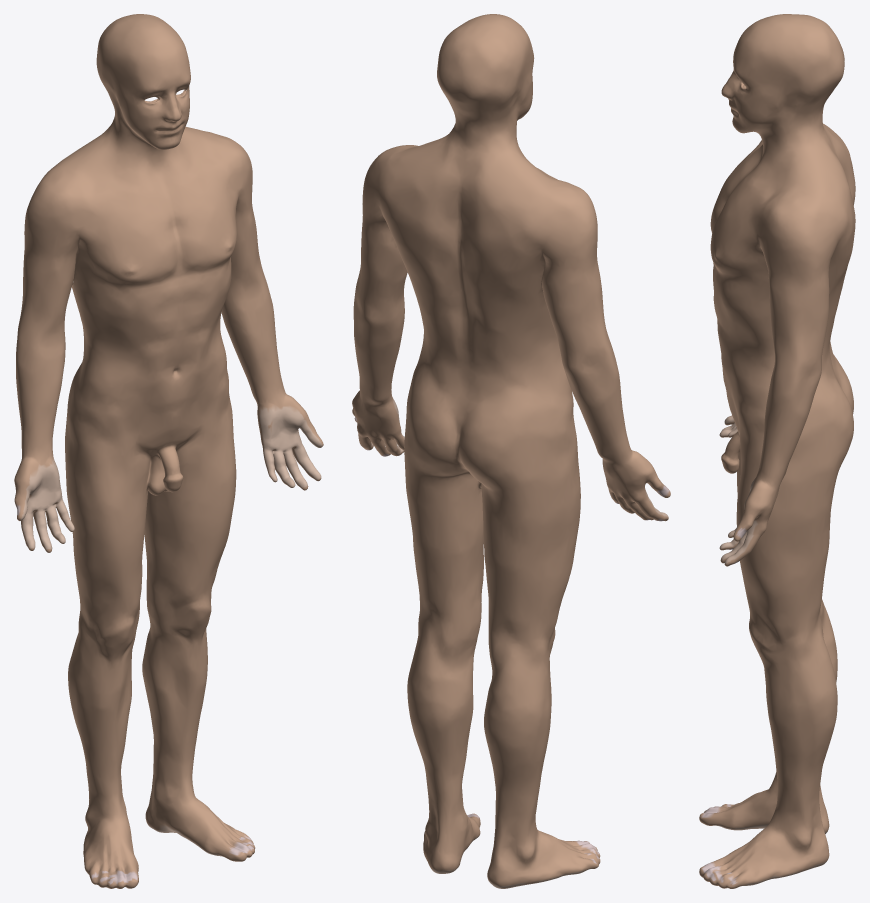
Rendered from skin.glb.
The picture shows the model from 3 angles, left to right: view 1: azimuth 30°, elevation 25°; view 2: azimuth 150°, elevation 25°; view 3: azimuth 270°, elevation 25°; orthographic projection. The views are drawn at different scales.
Parts seen in each view (by area): view 1: skin; view 2: skin; view 3: skin.
Part boxes in pixels (x1,y1,x2,y2): skin: (14, 14, 323, 888); skin: (352, 14, 670, 888); skin: (699, 14, 855, 888).
Size of the model in its own units: 0.667 by 1.72 by 0.292.
